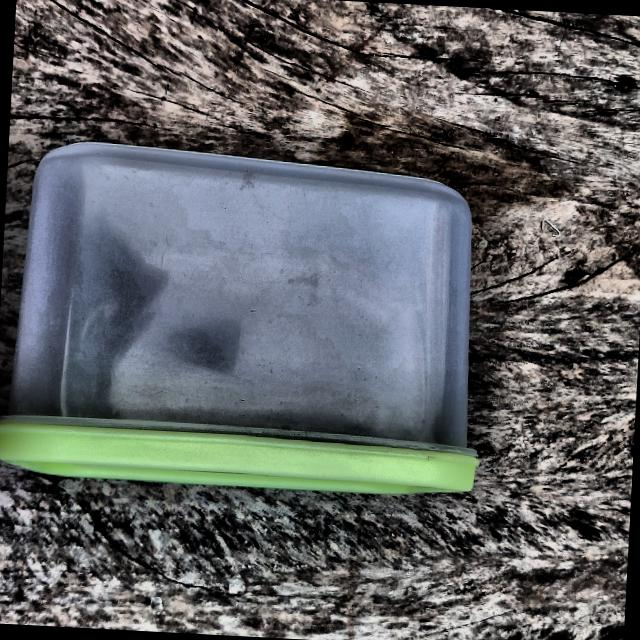plastic container: (6, 133, 502, 516)
